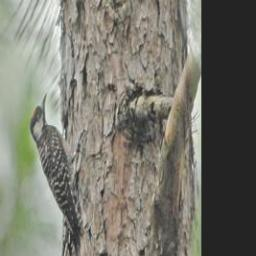Woodpecker: (30, 85, 84, 252)
